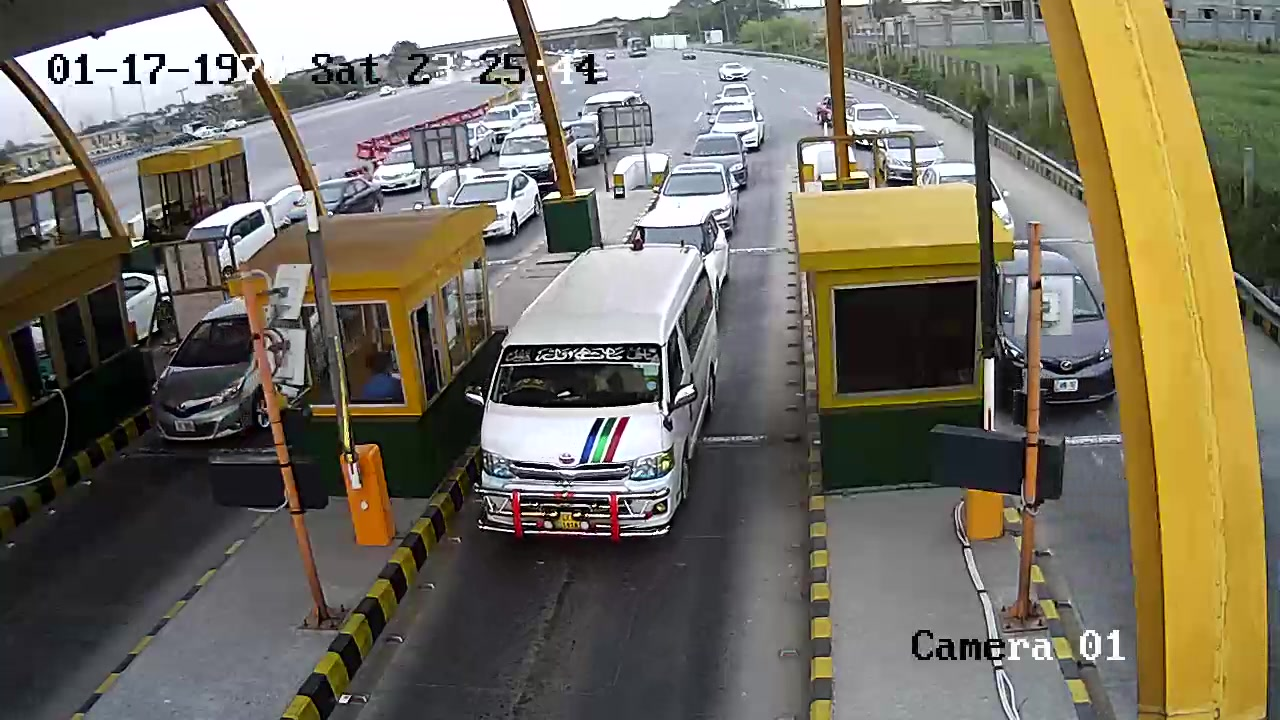F3: (477, 240, 726, 544)
